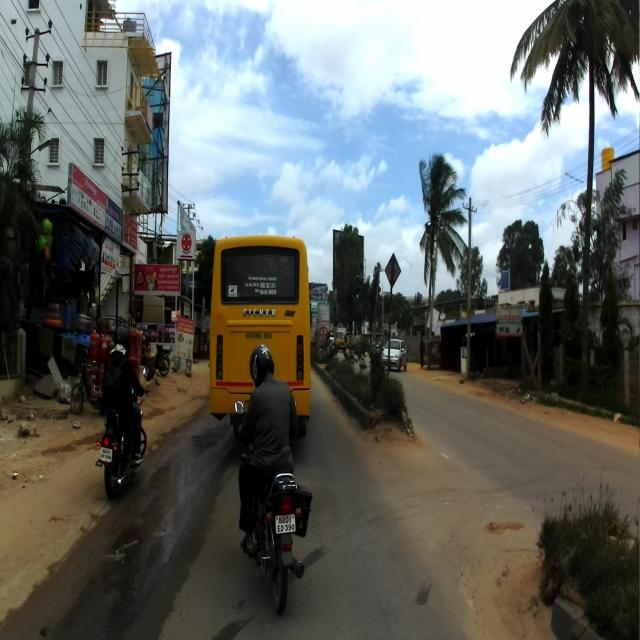Car_TATA: (383, 338, 407, 369)
bus: (207, 231, 312, 440)
motorcycle_Hero: (233, 400, 313, 614)
motorcycle_RoyalEnfield: (95, 366, 149, 500)
motorcycle_TVS: (70, 347, 104, 415)
